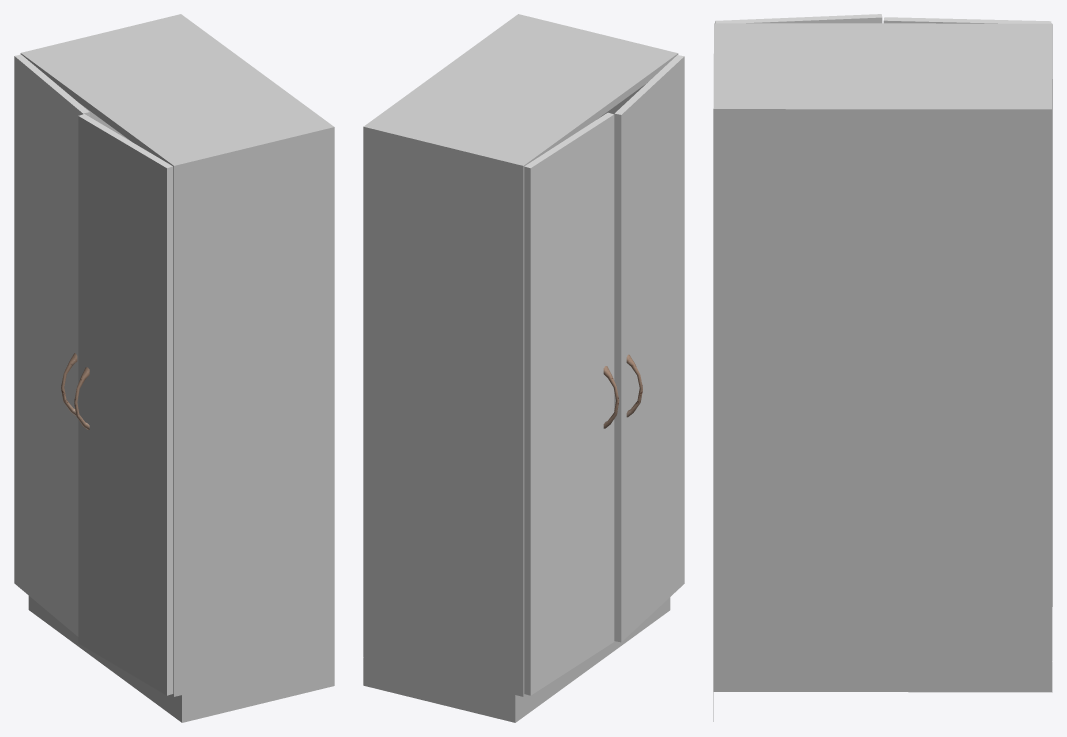
File: cabinet-1.glb
3 renders of one model, left to right at view 1: azimuth 30°, elevation 25°; view 2: azimuth 150°, elevation 25°; view 3: azimuth 270°, elevation 25°, orthographic. The views are drawn at different scales.
Parts seen in each view (by area): view 1: bookCaseV2_004_wood_0, doorHigh_004_wood_0, doorHigh_005_wood_0; view 2: bookCaseV2_004_wood_0, doorHigh_005_wood_0, doorHigh_004_wood_0; view 3: bookCaseV2_004_wood_0, doorHigh_004_wood_0, doorHigh_005_wood_0.
Part boxes in pixels (x1=…): bookCaseV2_004_wood_0: x1=20, y1=14, x2=334, y2=722; doorHigh_004_wood_0: x1=78, y1=114, x2=173, y2=695; doorHigh_005_wood_0: x1=14, y1=54, x2=89, y2=636; bookCaseV2_004_wood_0: x1=363, y1=14, x2=678, y2=722; doorHigh_005_wood_0: x1=524, y1=112, x2=614, y2=695; doorHigh_004_wood_0: x1=614, y1=55, x2=684, y2=642; bookCaseV2_004_wood_0: x1=713, y1=23, x2=1052, y2=721; doorHigh_004_wood_0: x1=715, y1=14, x2=882, y2=23; doorHigh_005_wood_0: x1=883, y1=17, x2=1051, y2=23.
Bounding box in the file's own units: 0.7237 × 2 × 1.
Materials: 3 (1 with a texture image).
